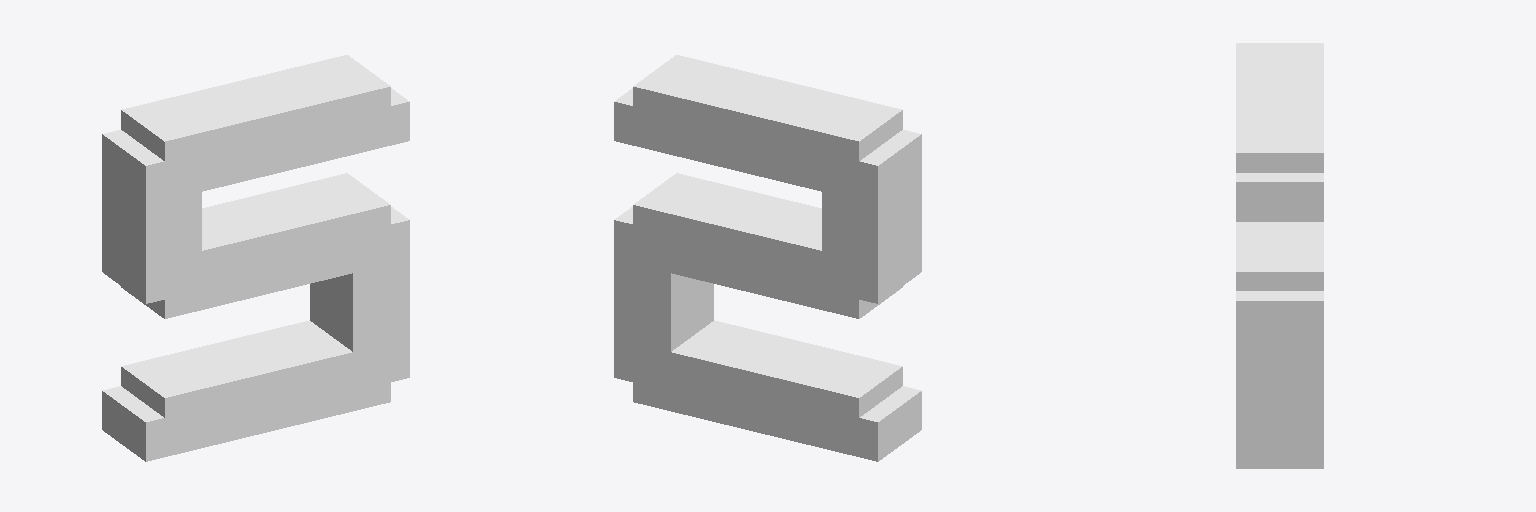
Rendered from S_Letter.obj.
3 renders of one model, left to right at view 1: azimuth 30°, elevation 25°; view 2: azimuth 150°, elevation 25°; view 3: azimuth 270°, elevation 25°, orthographic.
Size of the model in its own units: 14 by 16 by 4.